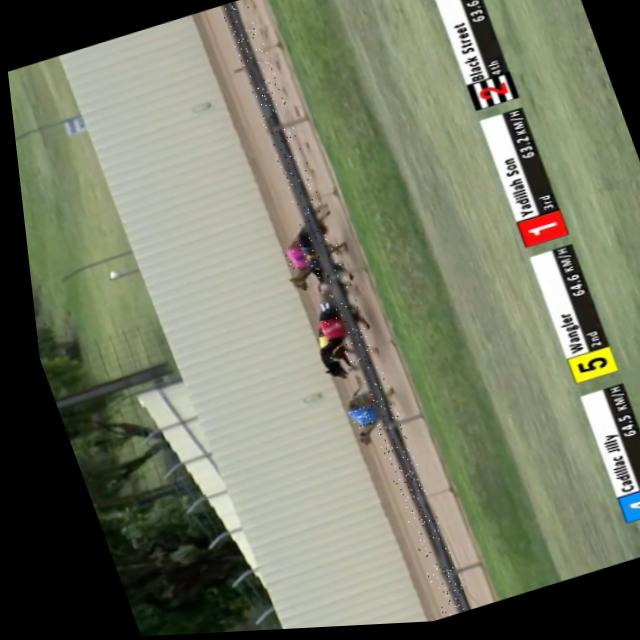dog_eight: (275, 245, 304, 273)
dog_five: (304, 330, 341, 366)
dog_four: (336, 407, 367, 432)
dog_one: (313, 318, 339, 341)
dog_seven: (294, 245, 323, 273)
rail: (220, 3, 455, 616)
